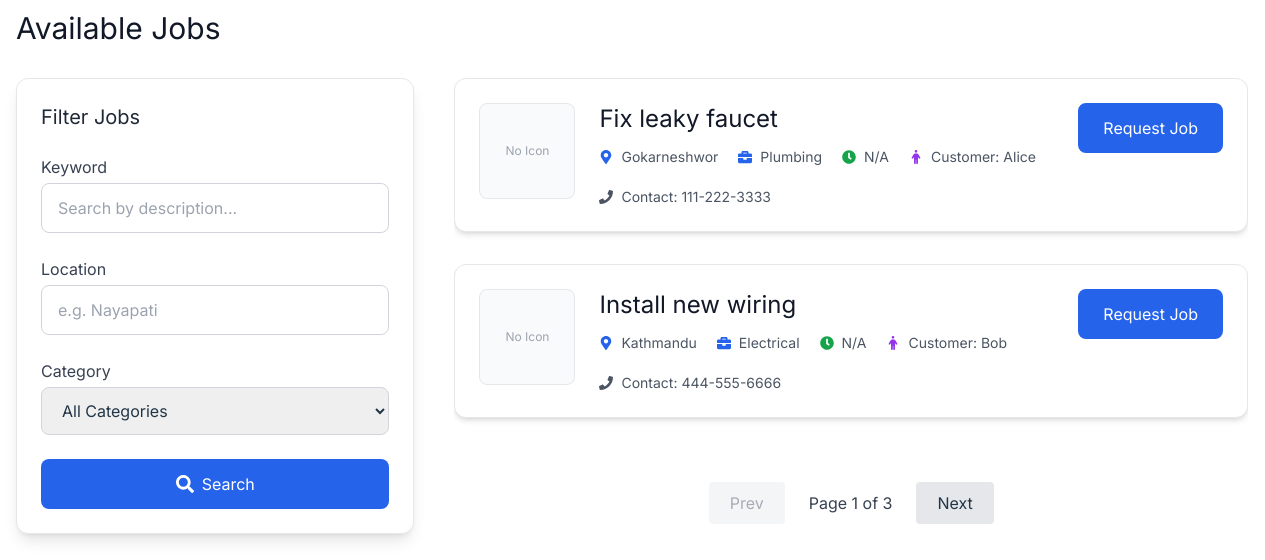
WorkerJobList › handles pagination correctly
The width and height of the screenshot is (1265, 560).
Expected: the text "Page 1 of 3" is shown, [809,491,892,515]
Expected: the button "Prev" is disabled, [709,482,785,524]
What coordinates should you click on to do the following:
click the button "Next"
I would click on:
 (955, 503)
Its box is [916,482,994,524].
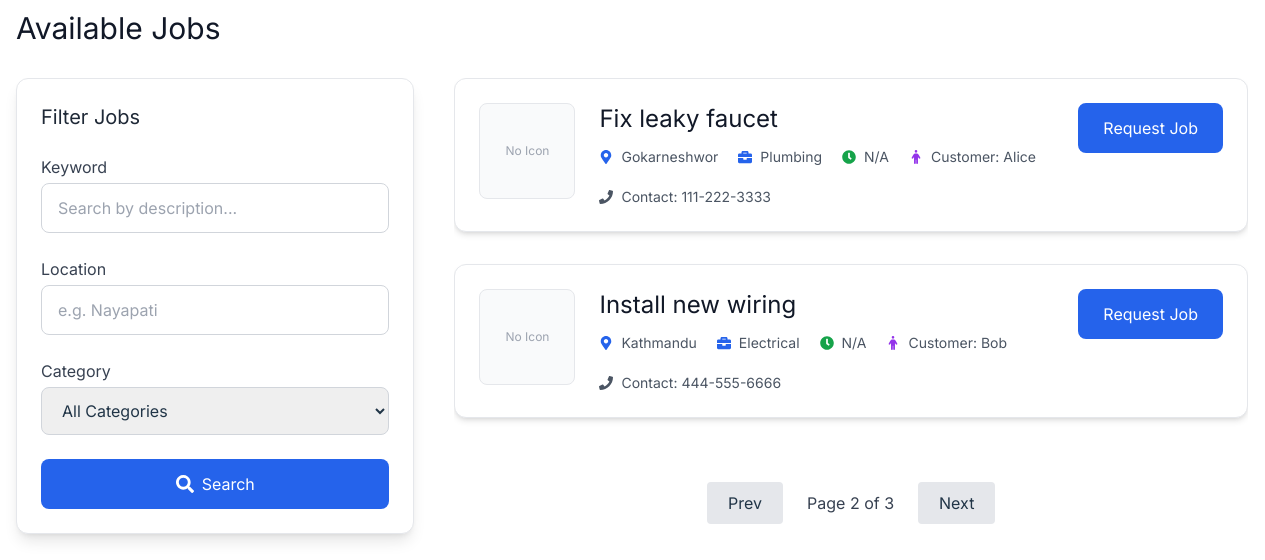
Now the text "Page 2 of 3" is shown, box [807,491,894,515]
Now the button "Prev" is enabled, box [707,482,783,524]
